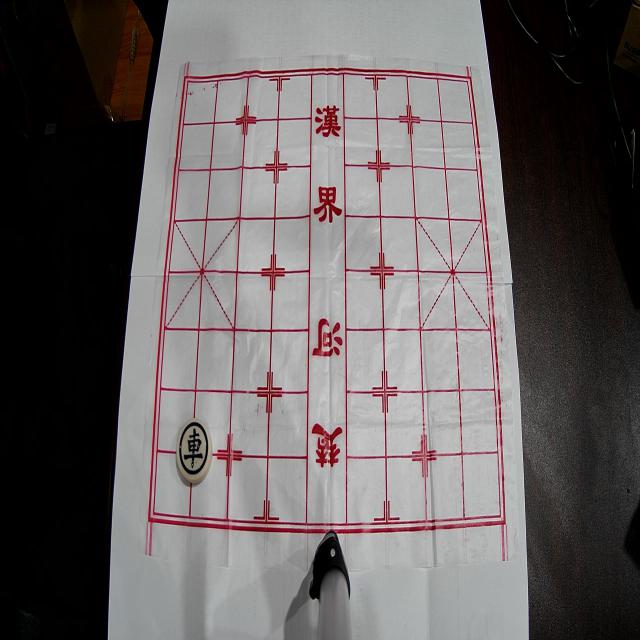black-chariot: (176, 418, 212, 483)
